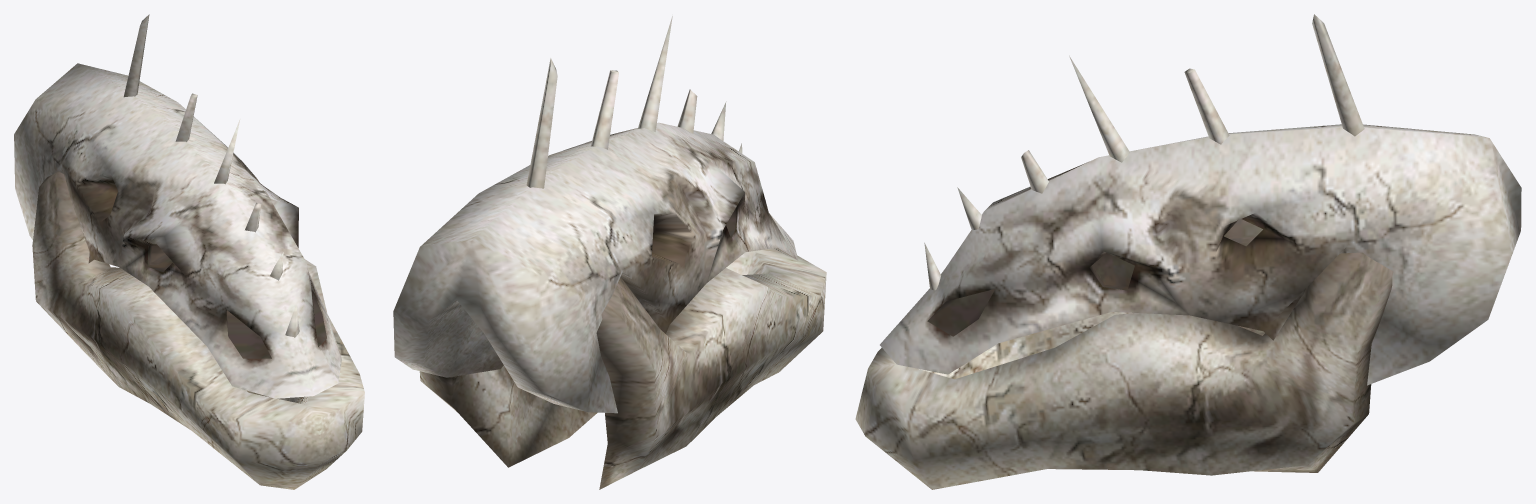
Rendered from thm_dant_lizard_skull_l0.fbx.
3 renders of one model, left to right at view 1: azimuth 30°, elevation 25°; view 2: azimuth 150°, elevation 25°; view 3: azimuth 270°, elevation 25°, orthographic. The views are drawn at different scales.
Visible parts, largest first — view 1: mesh_node; view 2: mesh_node; view 3: mesh_node.
Boxes of the visible parts, x1,y1,x2,y2 form: mesh_node: (14,14,364,489); mesh_node: (393,16,826,489); mesh_node: (855,14,1521,489).
Size of the model in its own units: 0.2604 by 0.4712 by 0.6013.
1 material, 1 textured.
